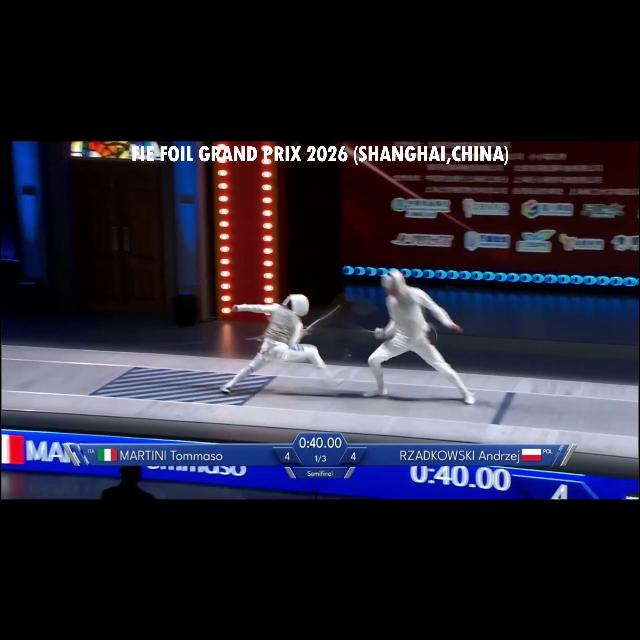blade: (301, 302, 344, 338), (360, 326, 386, 340)
